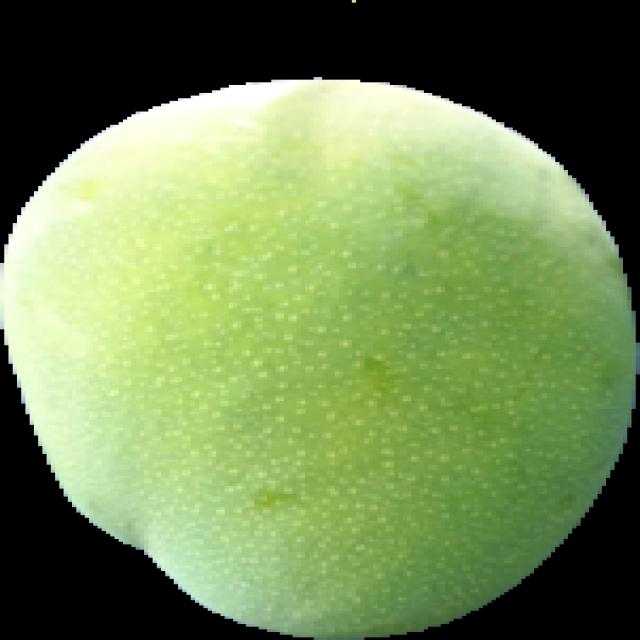Mango-sano: (0, 78, 639, 639)
